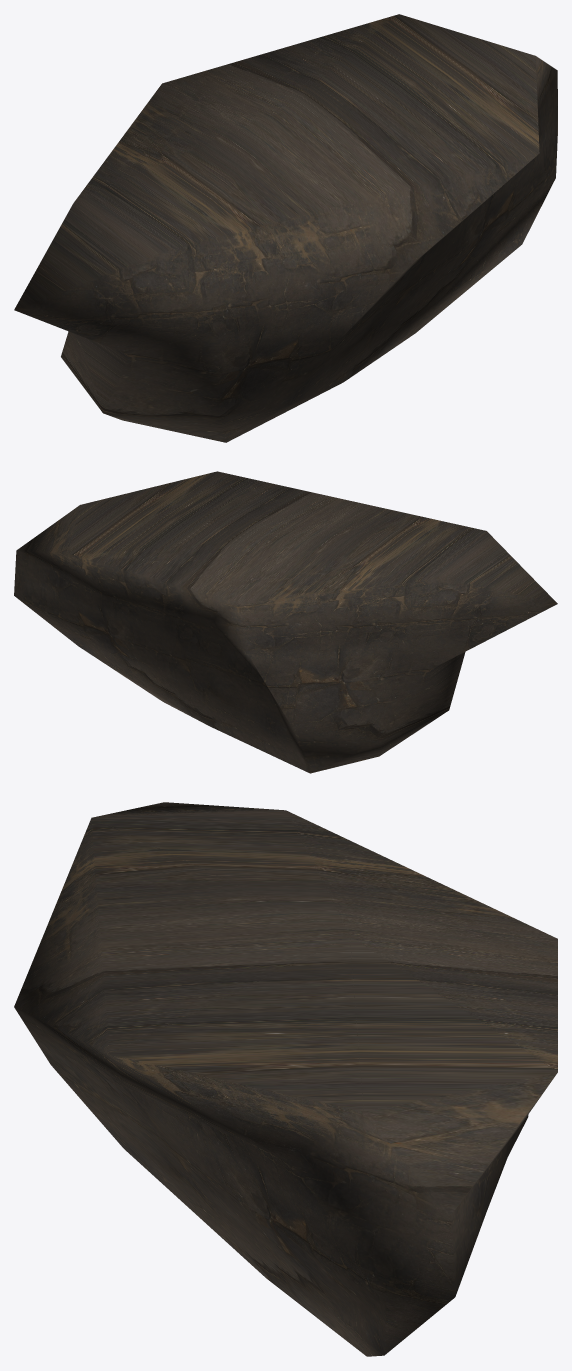
File: cliff_shelf_a_lod3.gltf
The picture shows the model from 3 angles, top to bottom: view 1: azimuth 30°, elevation 25°; view 2: azimuth 150°, elevation 25°; view 3: azimuth 270°, elevation 25°; orthographic projection. The views are drawn at different scales.
Parts seen in each view (by area): view 1: cliff_shelf_a_LOD3; view 2: cliff_shelf_a_LOD3; view 3: cliff_shelf_a_LOD3.
Boxes of the visible parts, left/top/right/bottom form: cliff_shelf_a_LOD3: left=14, top=14, right=557, bottom=442; cliff_shelf_a_LOD3: left=14, top=471, right=557, bottom=773; cliff_shelf_a_LOD3: left=14, top=802, right=557, bottom=1356.
Size of the model in its own units: 17.37 by 7 by 9.71.
Materials: 1 (1 with a texture image).
